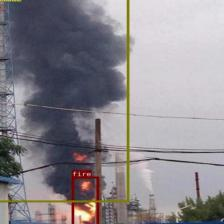fire: (71, 176, 98, 224)
smoke: (0, 0, 128, 201)
